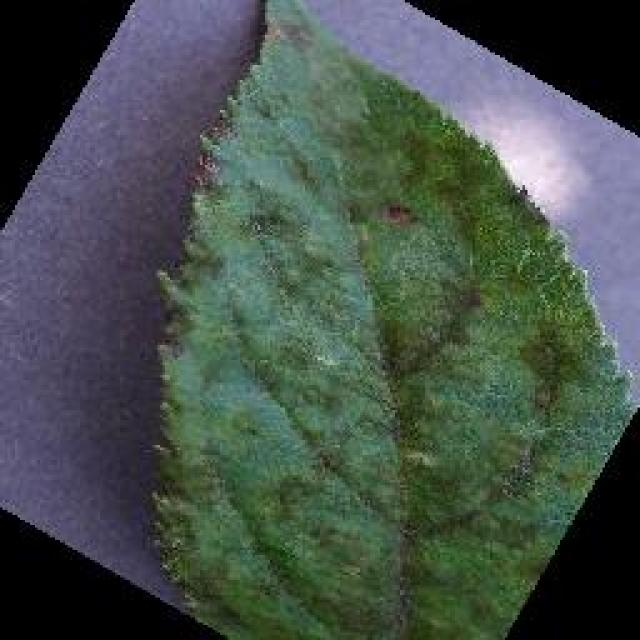apple scab disease: (142, 0, 638, 638)
